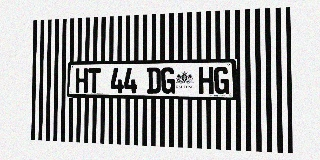4: (111, 68, 124, 93), (124, 68, 137, 93)
D: (147, 67, 161, 94)
G: (214, 67, 229, 94), (161, 67, 175, 94)
H: (199, 67, 214, 94), (75, 68, 88, 93)
T: (88, 68, 101, 93)
